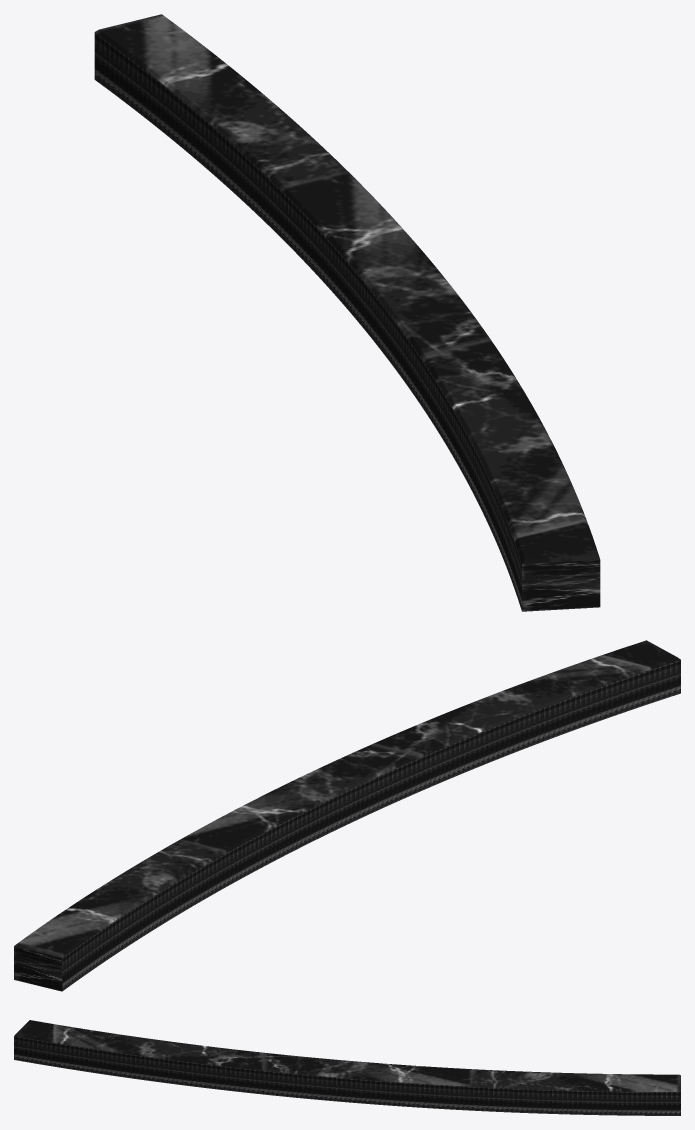
Rendered from f02-black-marble-pool-trim-3m-showcase.glb.
3 renders of one model, top to bottom at view 1: azimuth 30°, elevation 25°; view 2: azimuth 150°, elevation 25°; view 3: azimuth 270°, elevation 25°, orthographic. The views are drawn at different scales.
Parts seen in each view (by area): view 1: f02-black-marble-pool-trim-3m-showcase; view 2: f02-black-marble-pool-trim-3m-showcase; view 3: f02-black-marble-pool-trim-3m-showcase.
Boxes of the visible parts, left/top/right/bottom form: f02-black-marble-pool-trim-3m-showcase: left=94, top=14, right=600, bottom=611; f02-black-marble-pool-trim-3m-showcase: left=14, top=640, right=680, bottom=991; f02-black-marble-pool-trim-3m-showcase: left=14, top=1020, right=680, bottom=1115.
Bounding box in the file's own units: 0.8142 × 0.135 × 3.21.
Materials: 1 (1 with a texture image).
